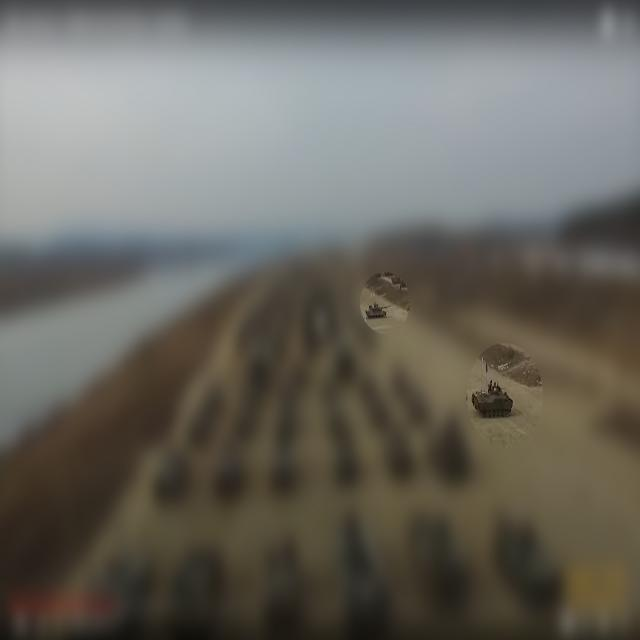tank: (471, 380, 516, 419), (362, 301, 394, 324)
